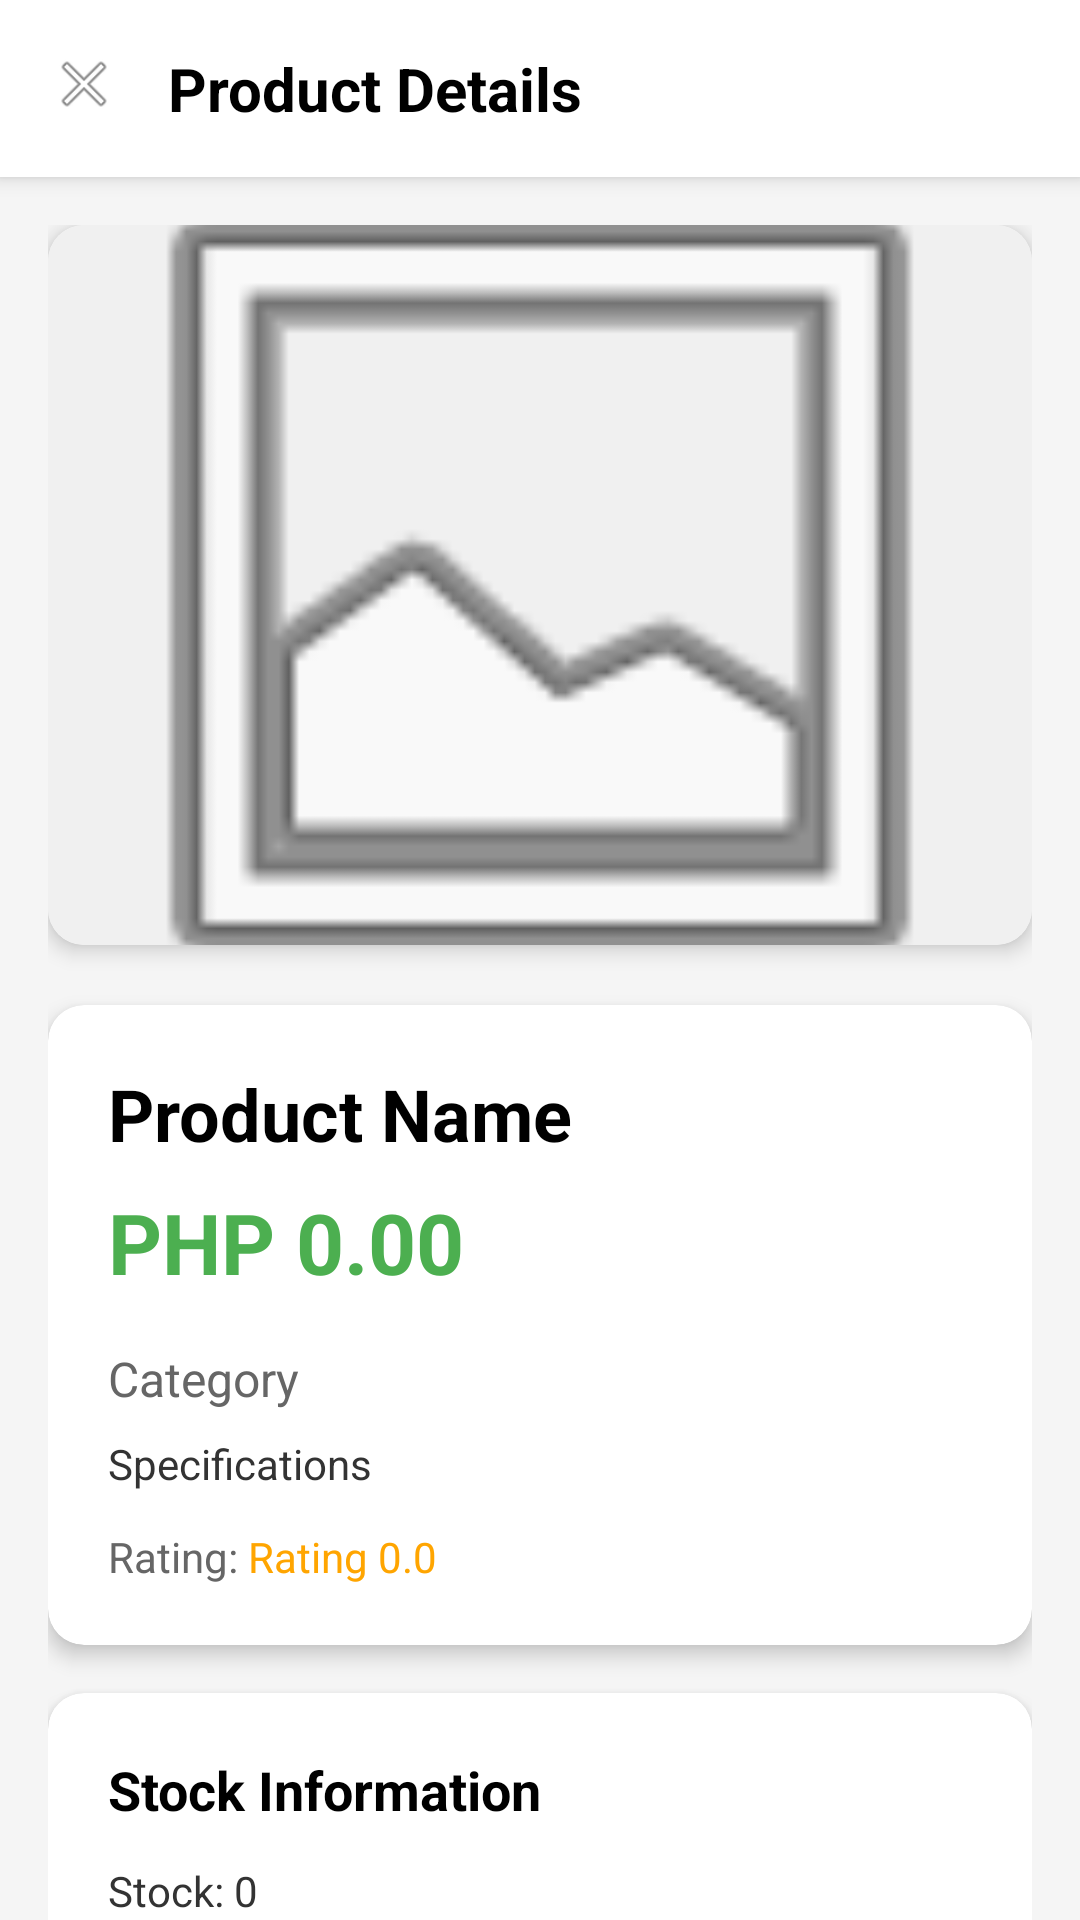

Point at icon controls on the screen. Image size 1080px×1920px, points as [x,y].
Back: [84,84]
